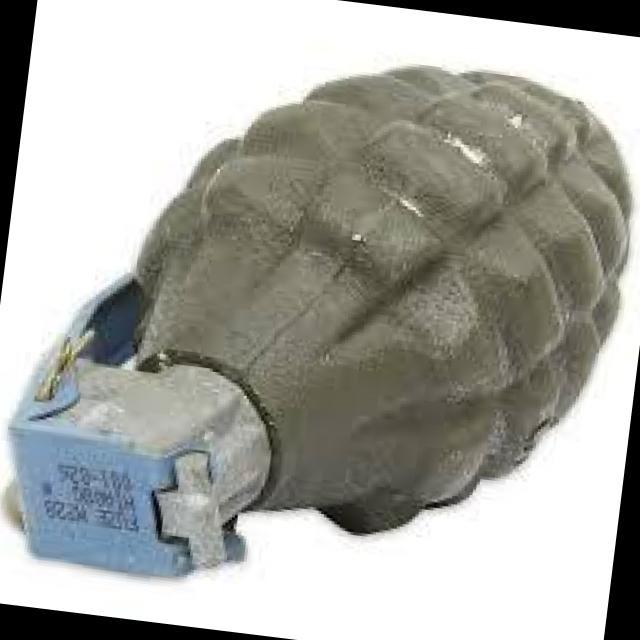grenade: (0, 26, 640, 640)
